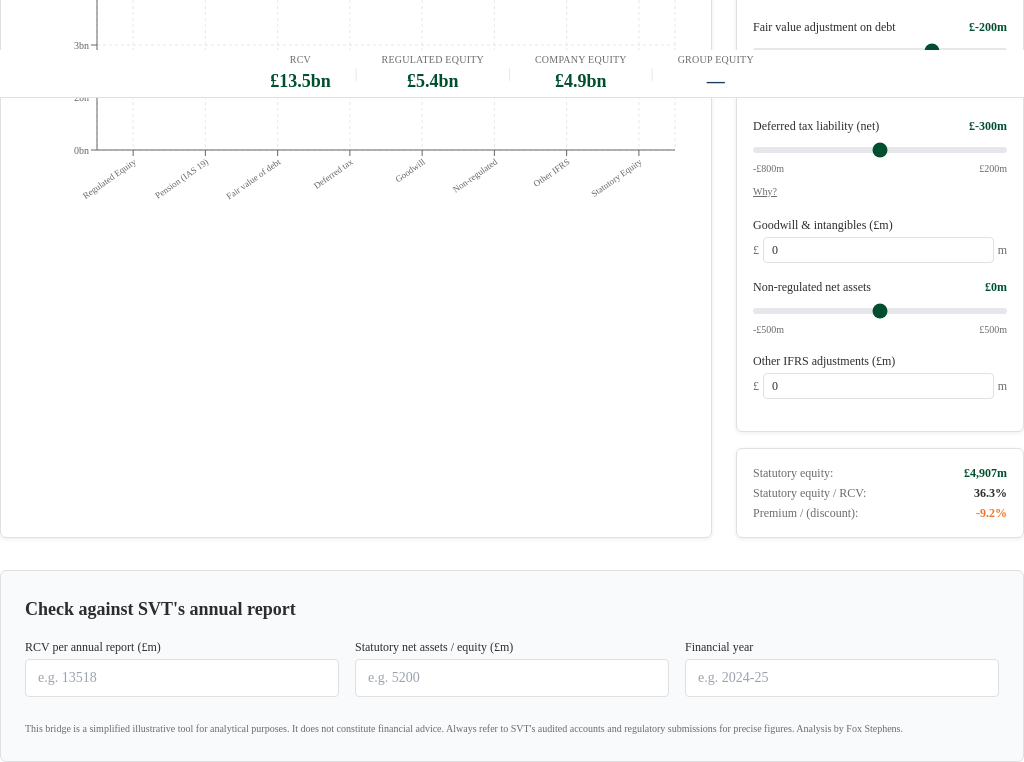
Test: EquityBridge › dynamic interpretation text shows correct message for gap > £500m
(page scrolled)
Check: the heading "Check against SVT's annual report" is shown, box [25,599,296,619]
Type "14781" into the number field with placeholder "e.g. 13518" at (182, 678), box [25,659,339,697]
(page scrolled)
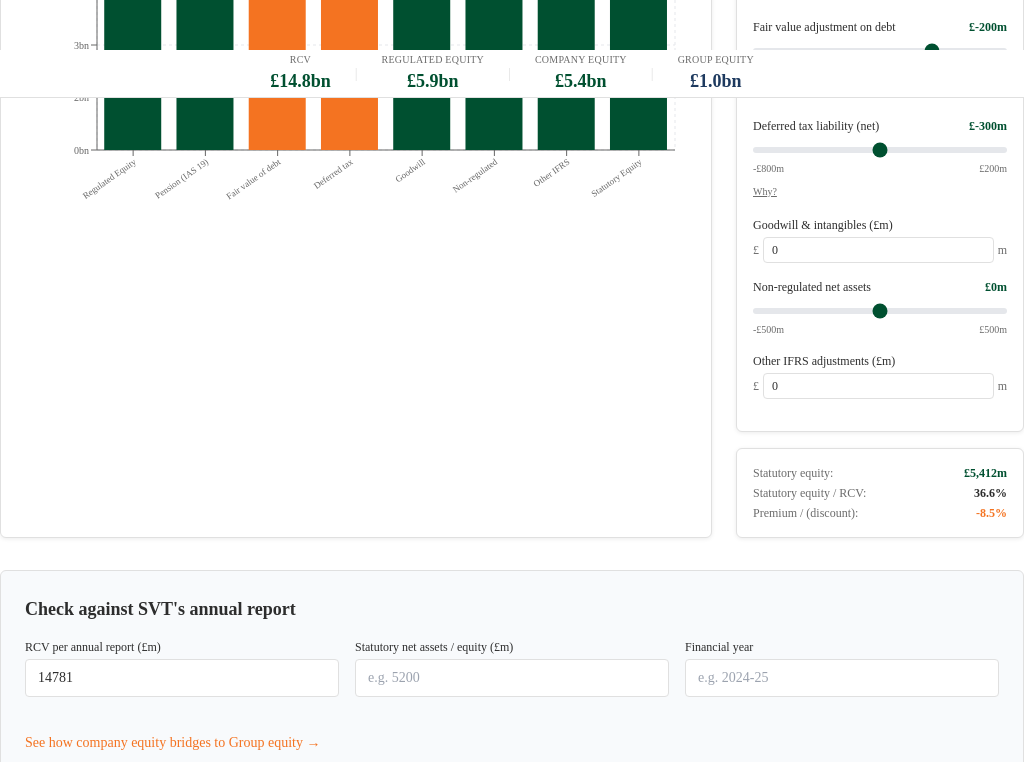
Type "3000" into the number field with placeholder "e.g. 5200" at (512, 678), box [355,659,669,697]
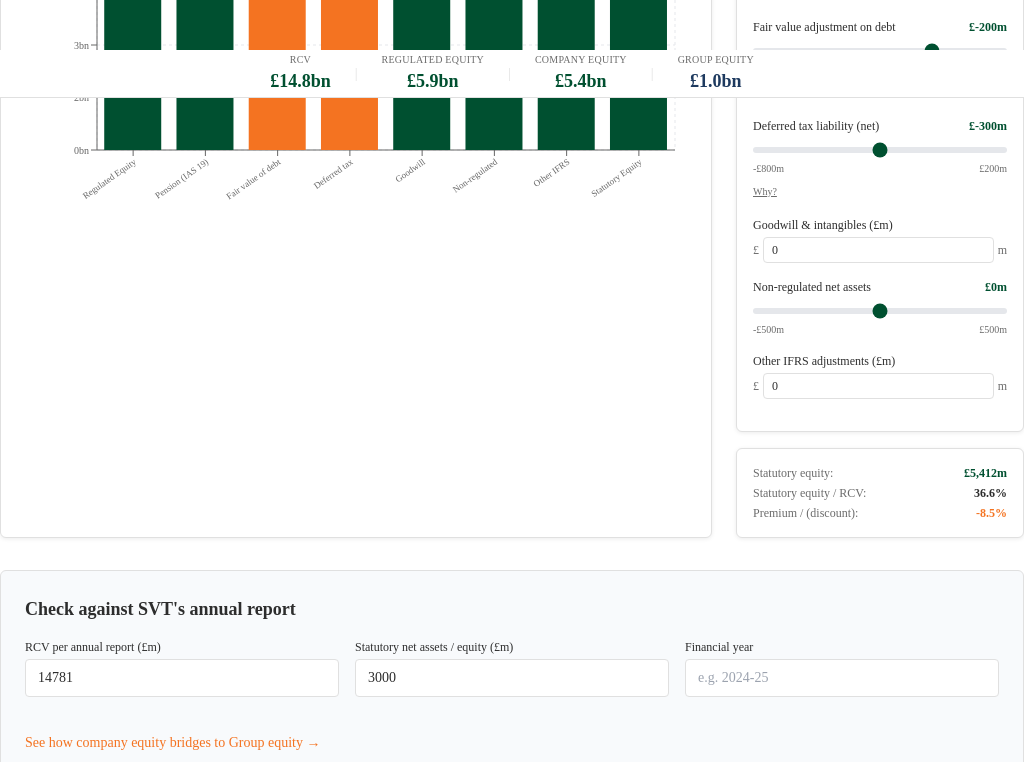
Type "2024-25" into the field with placeholder "e.g. 2024-25" at (842, 678), box [685,659,999,697]
(page scrolled)
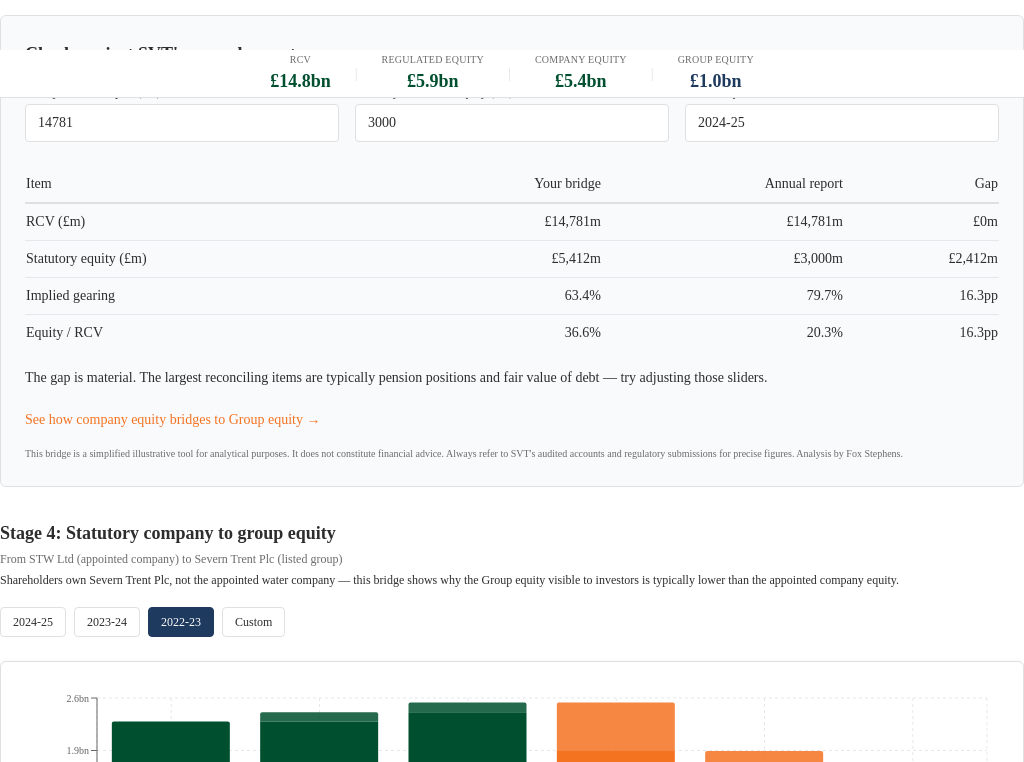
Check: the text "gap is material" is shown, box [25,370,768,385]
